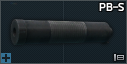PB 9x18PM sound suppressor: (0, 0, 127, 64)
